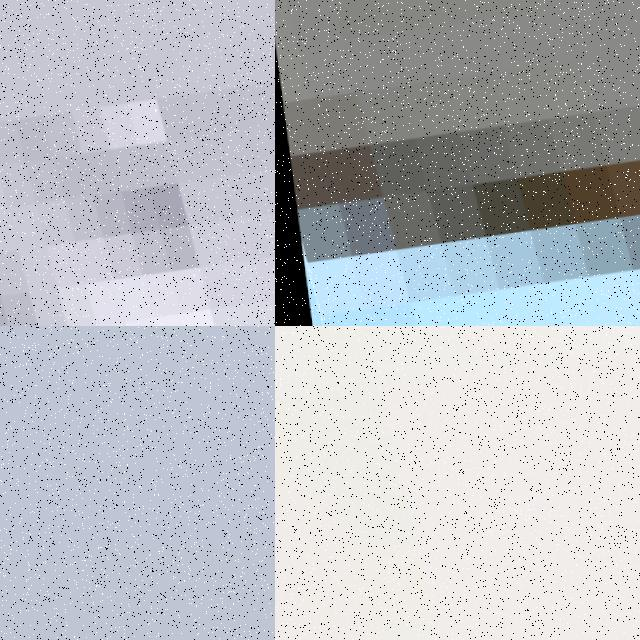0: (0, 0, 275, 326)
drone: (275, 0, 640, 326), (275, 326, 640, 640)
